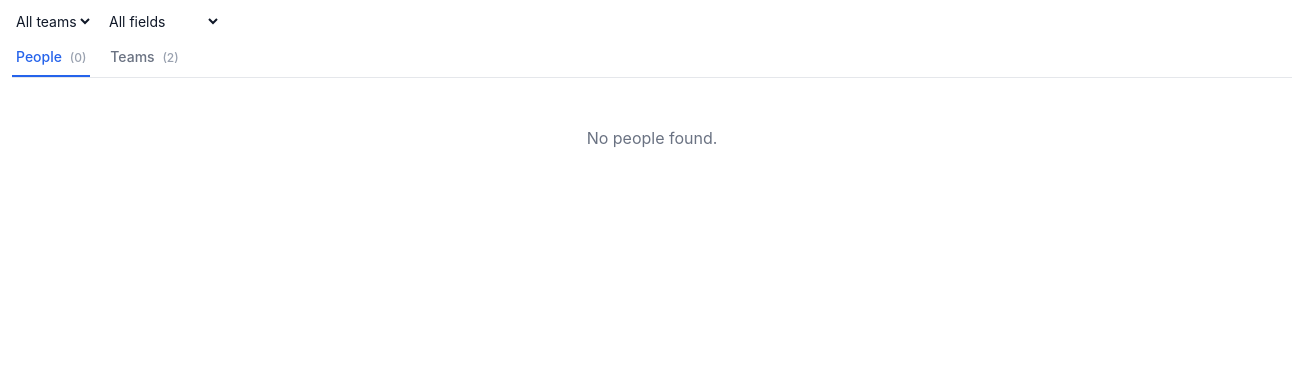
Test: DataQualityTab › completeness banner › shows team banner when teams have incomplete fields
The image size is (1304, 377).
Click the button "Teams (2)" at point(144, 62), box [106,47,183,77]
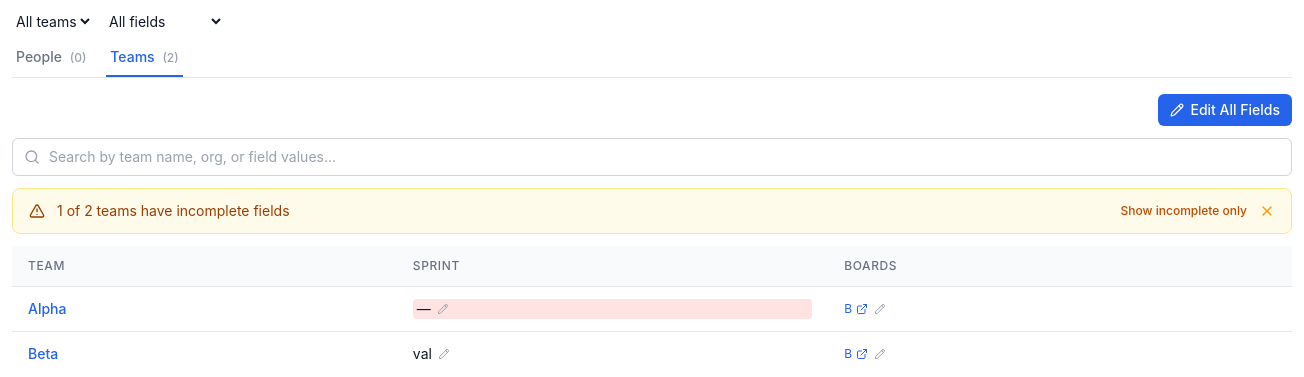
Expected: the text "1 of 2" is shown, [57,202,290,219]
Expected: the text "incomplete fields" is shown, [57,202,290,219]
